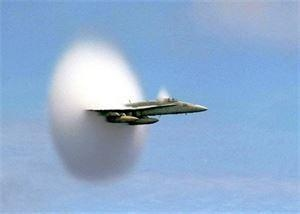airplane: (83, 90, 209, 127)
